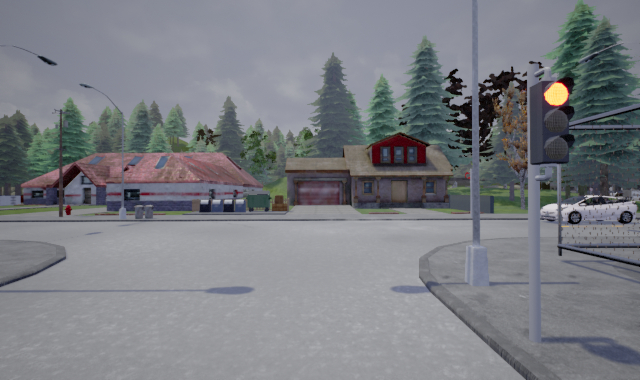traffic_light: (529, 76, 575, 167)
vehicle: (536, 195, 639, 225)
